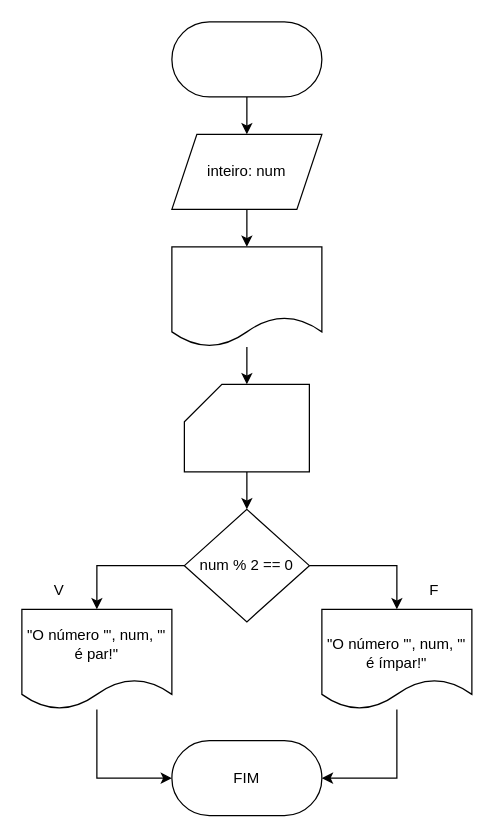
The diagram is 494 pixels wide and 838 high, and some of its shapes have lost their labels. The shapes that lost their labels are listed below. From the top down, each one's box as (x1, y1, x2, y2) in pixels, then its label:
(171, 21, 322, 97): INÍCIO
(171, 246, 322, 347): "Digite um número inteiro"
(183, 383, 309, 472): num
